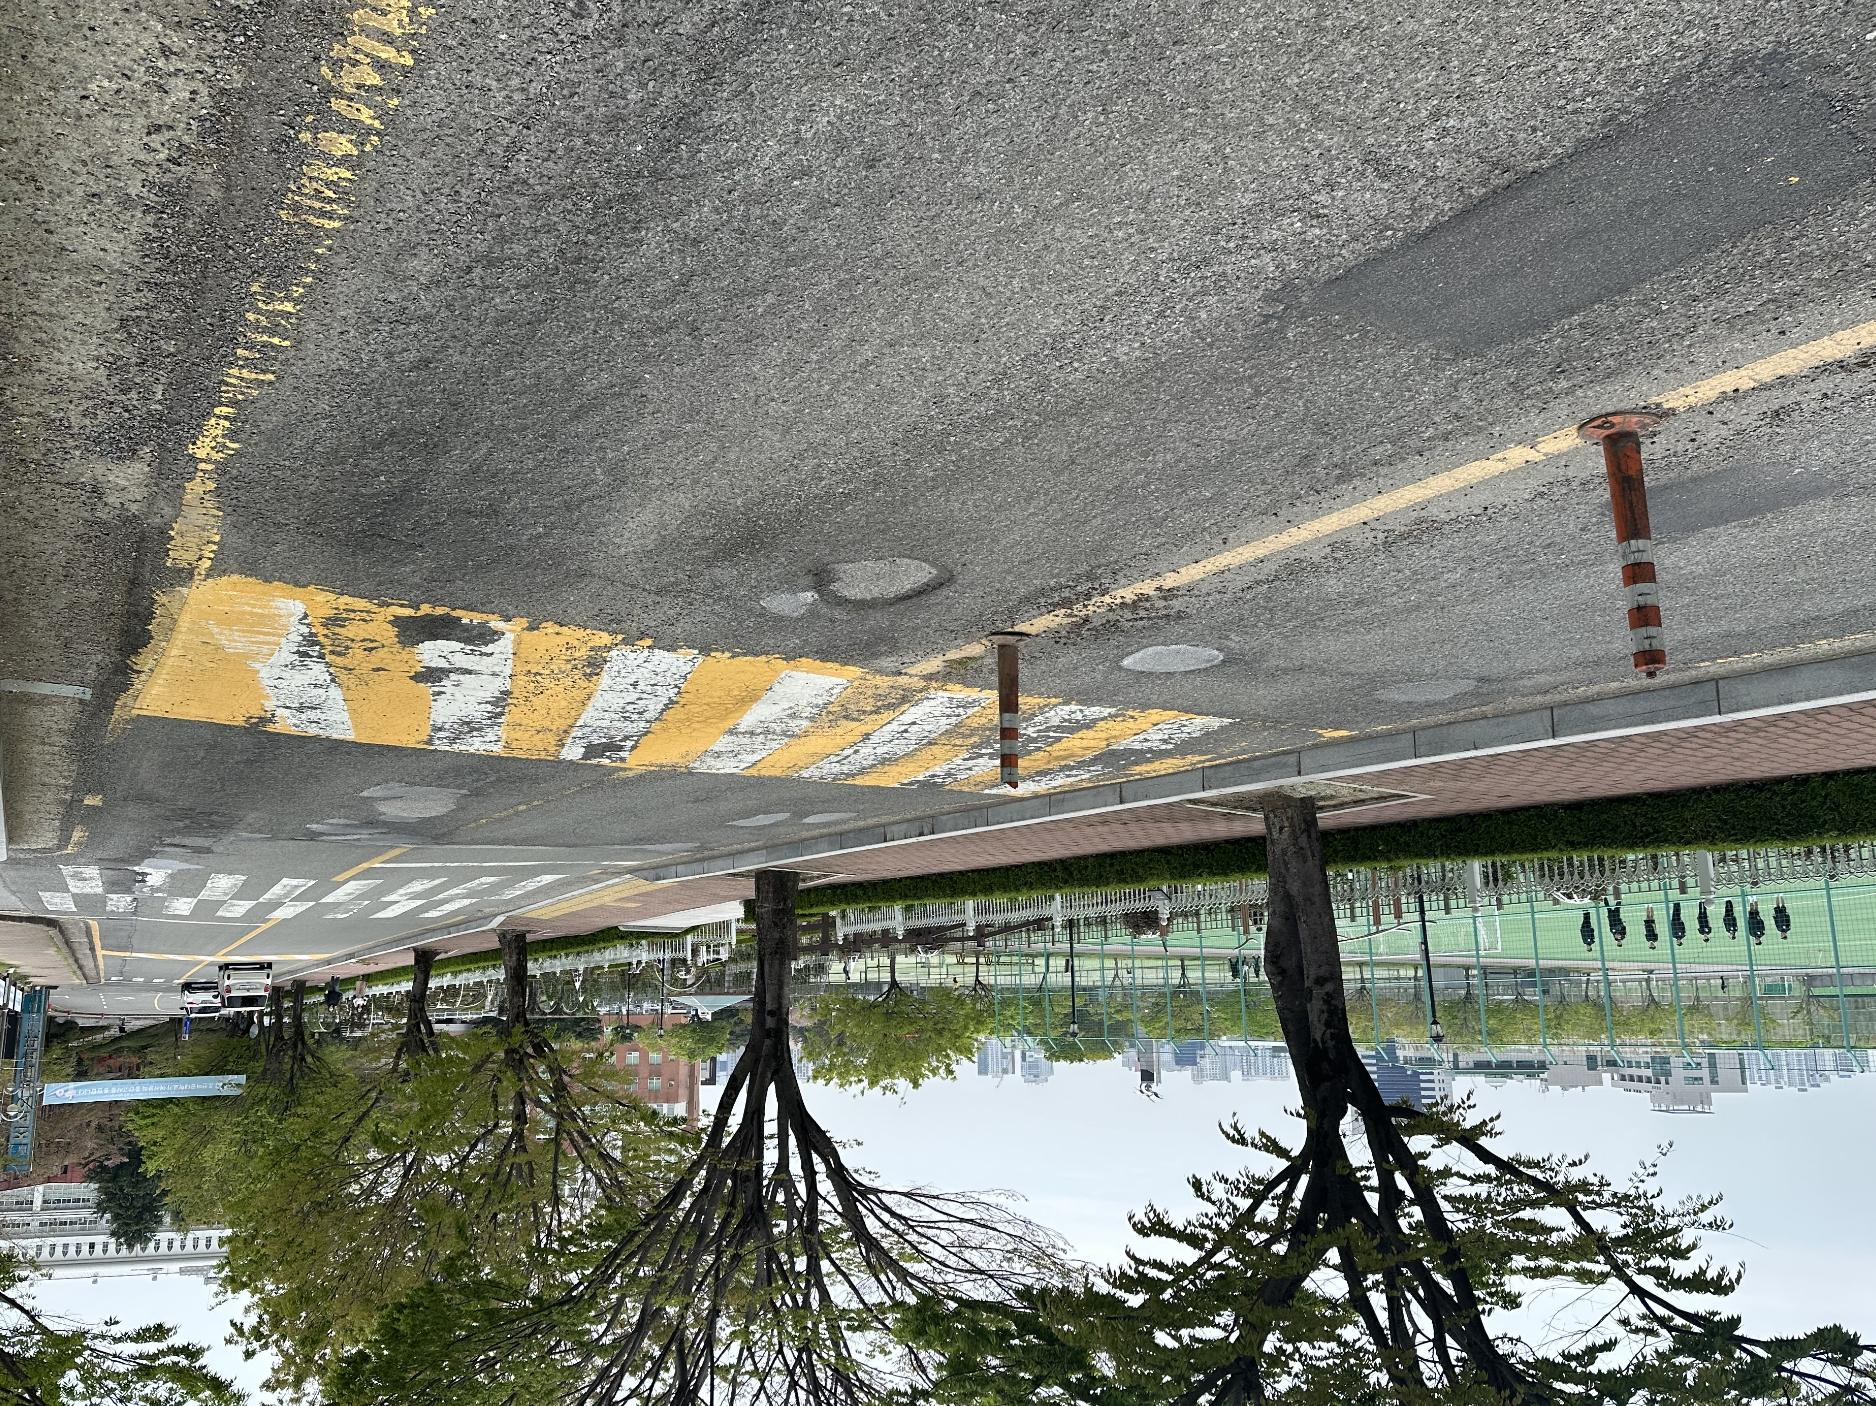pothole: (811, 533, 960, 642)
